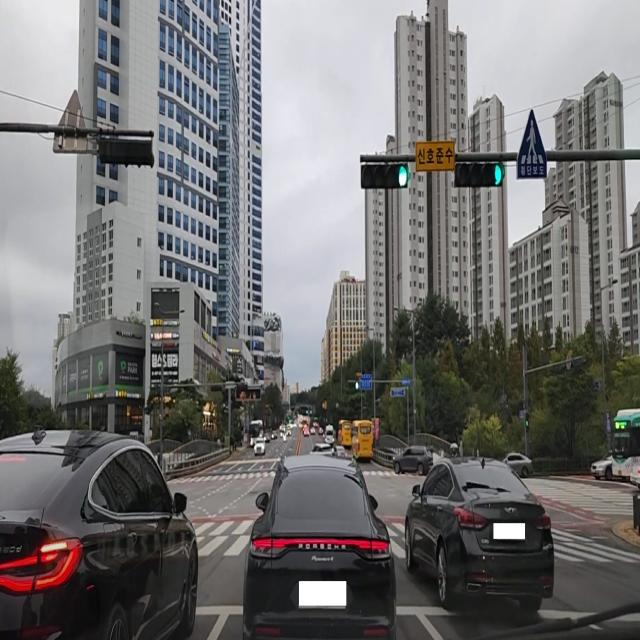Green Light: (492, 159, 504, 185), (397, 162, 408, 189)
